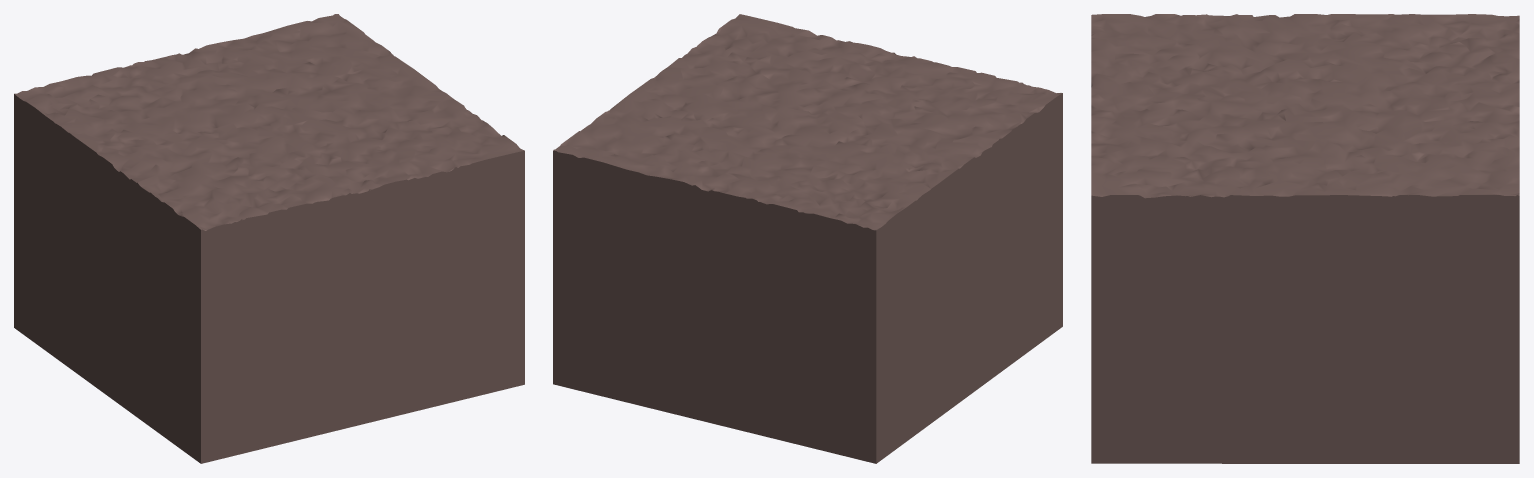
File: BLOCK_Ground.fbx
3 renders of one model, left to right at view 1: azimuth 30°, elevation 25°; view 2: azimuth 150°, elevation 25°; view 3: azimuth 270°, elevation 25°, orthographic. The views are drawn at different scales.
Parts seen in each view (by area): view 1: Ground; view 2: Ground; view 3: Ground.
Part boxes in pixels (x1,y1,x2,y2): Ground: [14, 14, 524, 463]; Ground: [553, 14, 1062, 463]; Ground: [1091, 14, 1519, 463].
Bounding box in the file's own units: 100 × 69.51 × 100.
